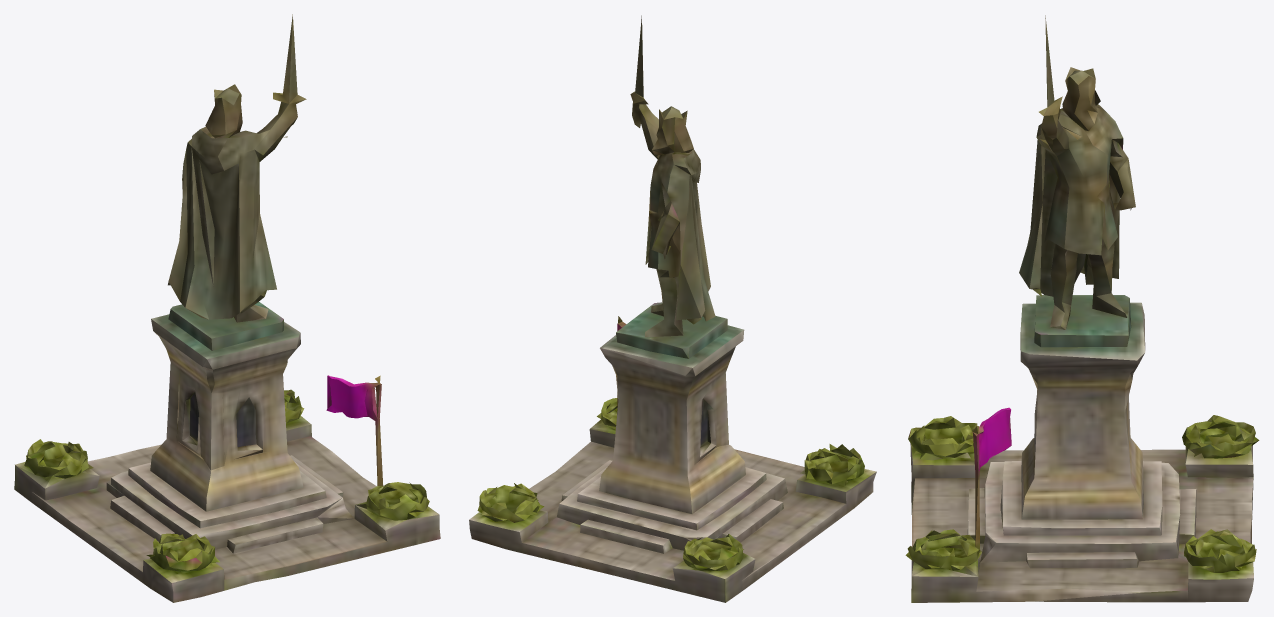
File: statue.lod2.glb
The picture shows the model from 3 angles, left to right: view 1: azimuth 30°, elevation 25°; view 2: azimuth 150°, elevation 25°; view 3: azimuth 270°, elevation 25°; orthographic projection. The views are drawn at different scales.
Visible parts, largest first — view 1: statue.lod2_uv; view 2: statue.lod2_uv; view 3: statue.lod2_uv.
Boxes of the visible parts, x1,y1,x2,y2 form: statue.lod2_uv: [14, 14, 440, 602]; statue.lod2_uv: [469, 15, 876, 602]; statue.lod2_uv: [905, 15, 1259, 602].
Bounding box in the file's own units: 1.08 × 1.91 × 1.13.
1 material, 1 textured.
